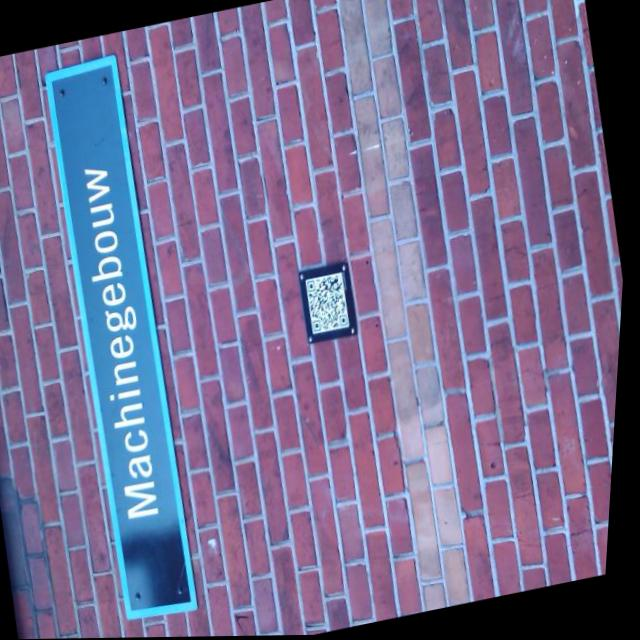qrcode: (310, 276, 356, 333)
